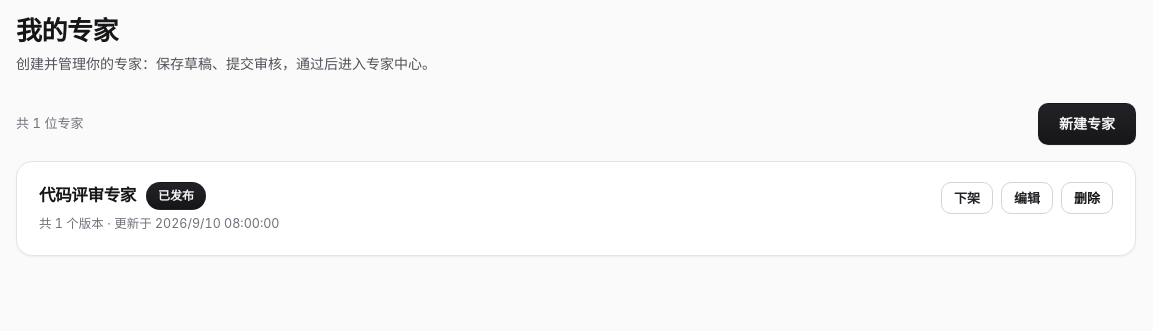
Scenario: 下架（T6 offline，简报⑤） › published 行点击下架 → POST offline 幂等键无 body → 徽标即时变草稿（无 refetch）
Expected: the text "已发布" is shown, [146, 182, 206, 210]
Click the button "下架".
click(967, 198)  # box [941, 182, 993, 214]
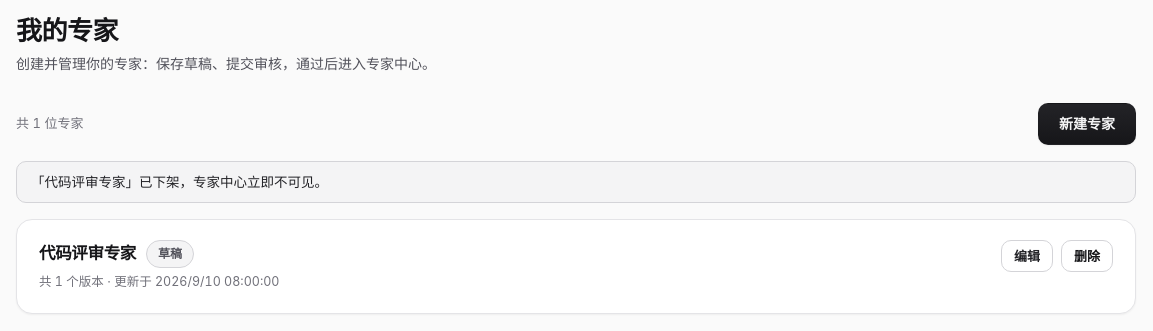
Now the text "草稿" is shown, box [146, 240, 194, 268]
Now the text "已发布" is gone
